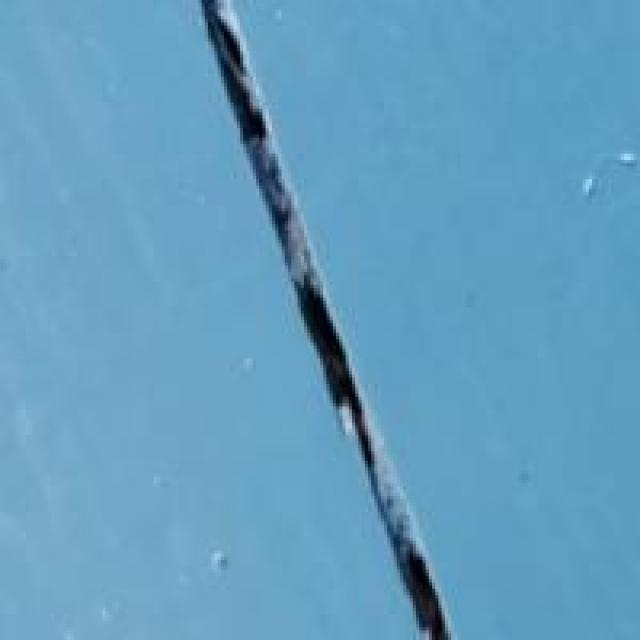Crack: (166, 0, 572, 637)
